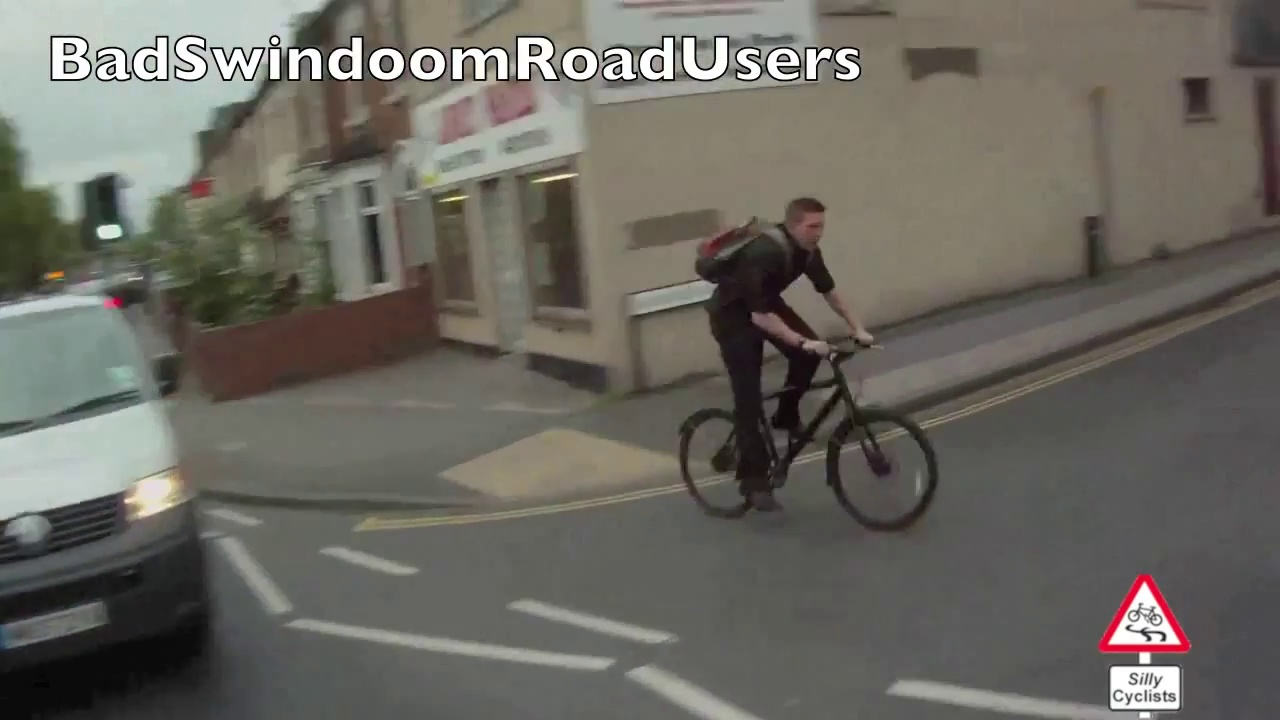cyclist_side: (674, 184, 947, 528)
